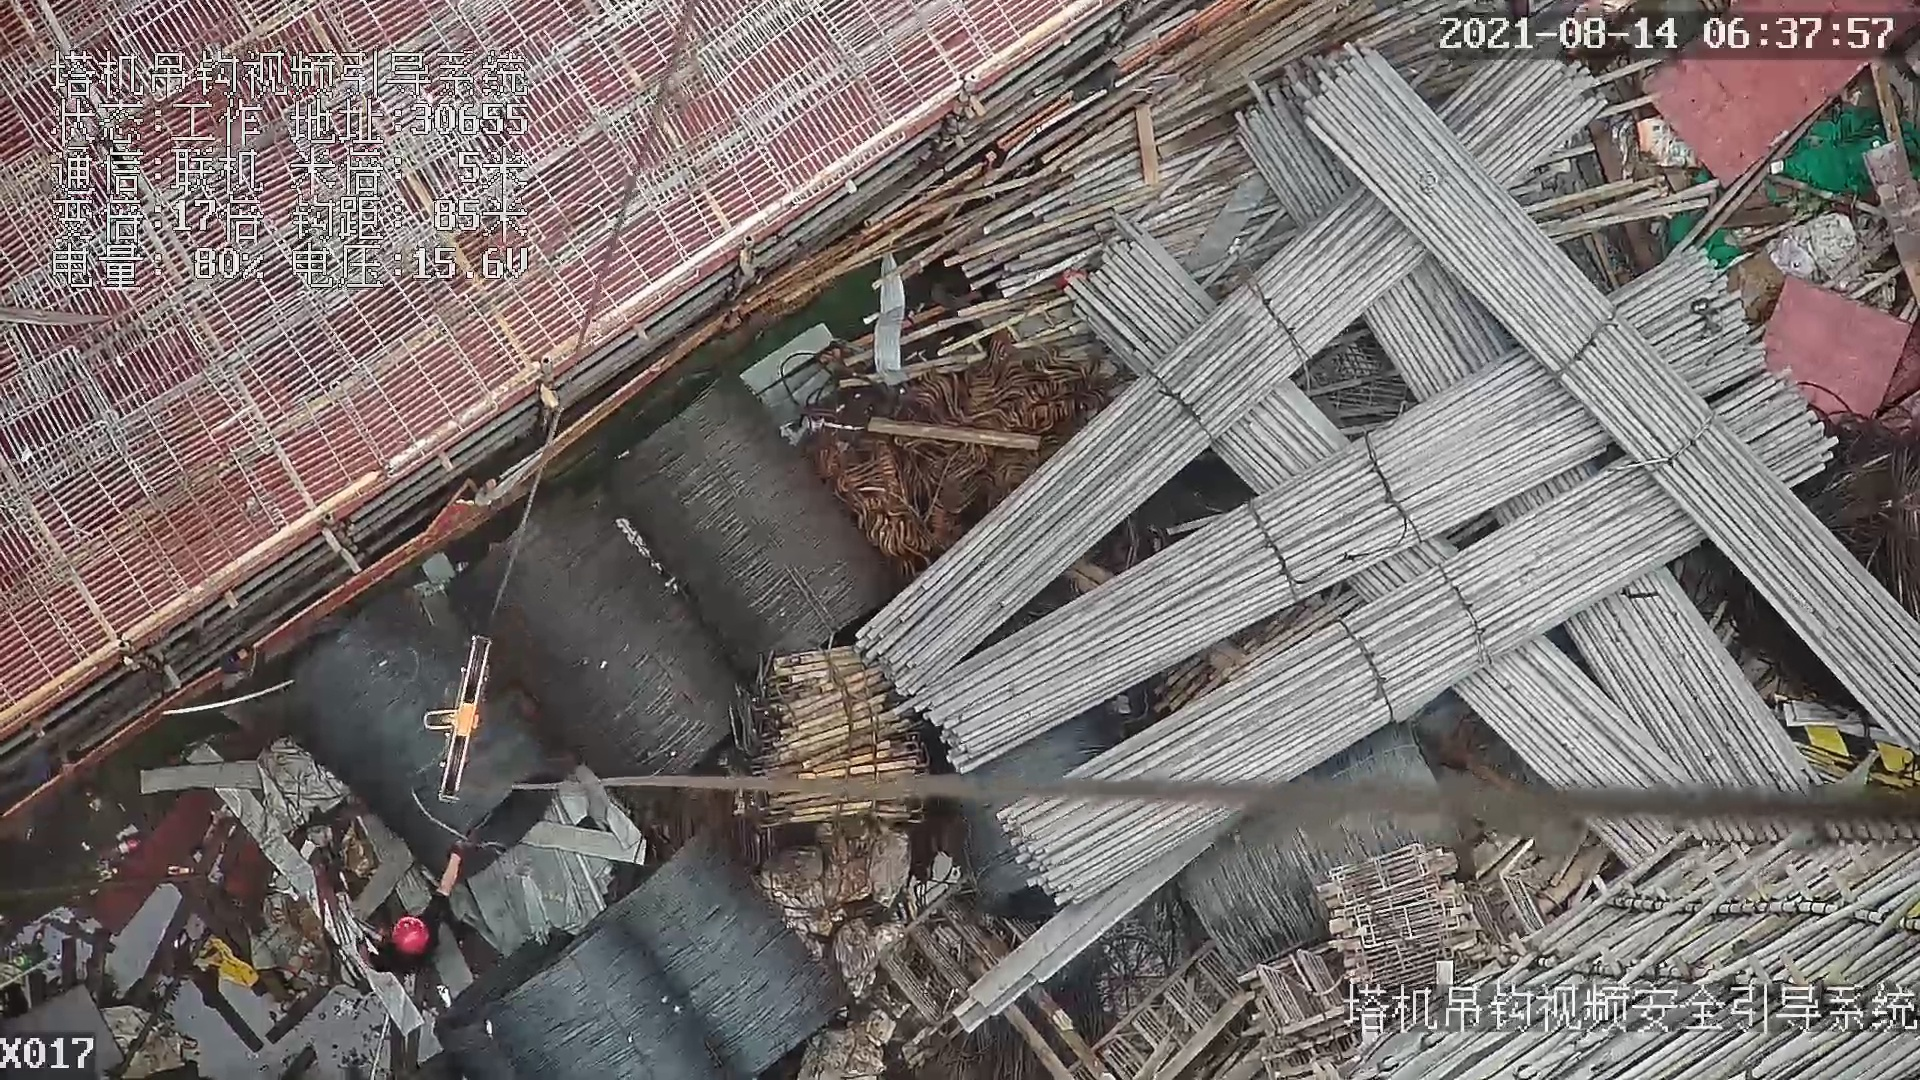helmet: (390, 914, 435, 959)
hook: (413, 639, 492, 799)
person: (356, 845, 458, 985)
scaffold: (885, 53, 1920, 810), (742, 626, 944, 818)
